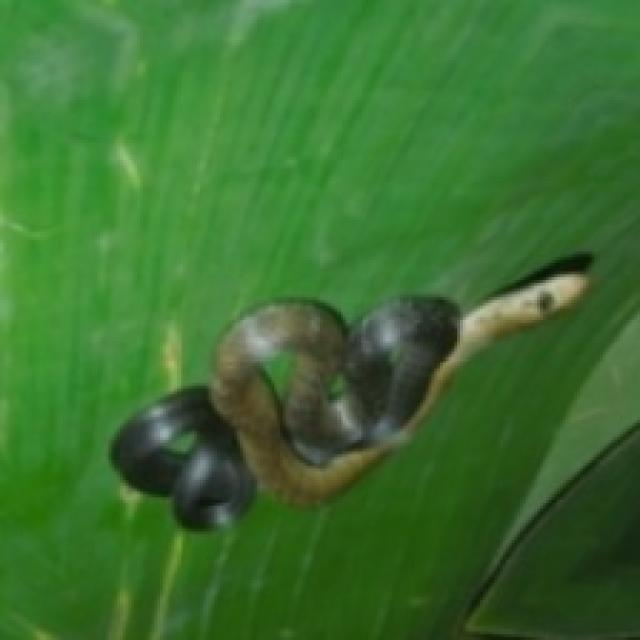reddish rat snake: (111, 260, 589, 526)
